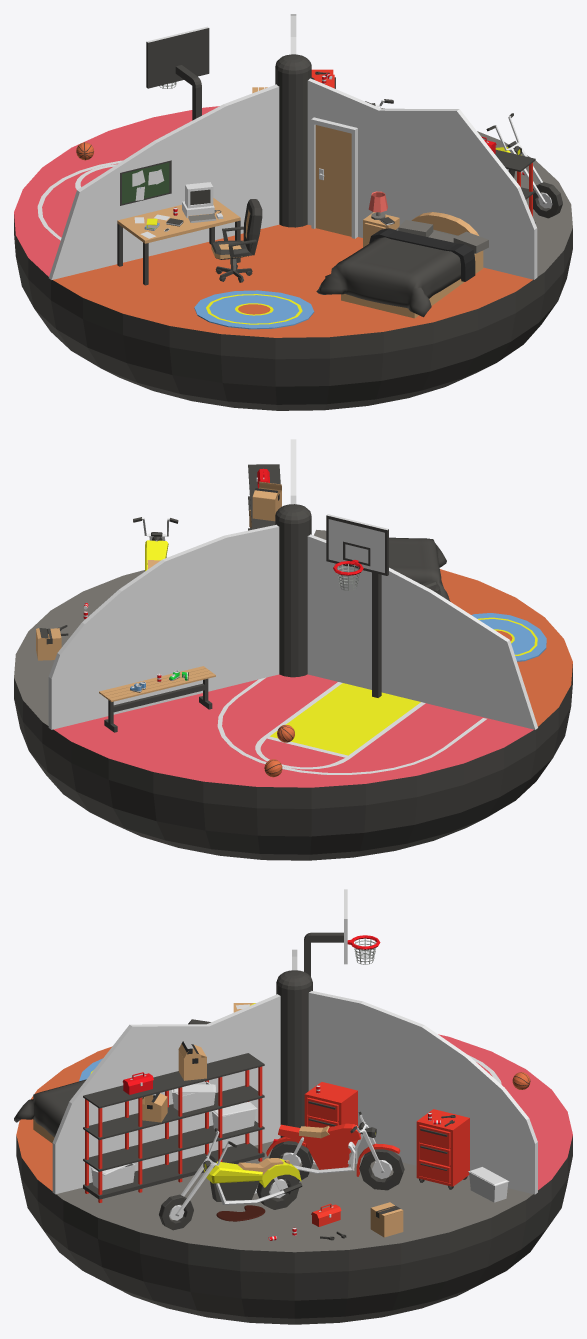
The picture shows the model from 3 angles, top to bottom: view 1: azimuth 30°, elevation 25°; view 2: azimuth 150°, elevation 25°; view 3: azimuth 270°, elevation 25°; orthographic projection.
Visible parts, largest first — view 1: Scene; view 2: Scene; view 3: Scene.
Part boxes in pixels (box(x1,y1,x2,y2)): Scene: box(14, 14, 572, 410); Scene: box(14, 439, 572, 860); Scene: box(14, 889, 572, 1324).
Size of the model in its own units: 10.19 by 5.77 by 10.21.
